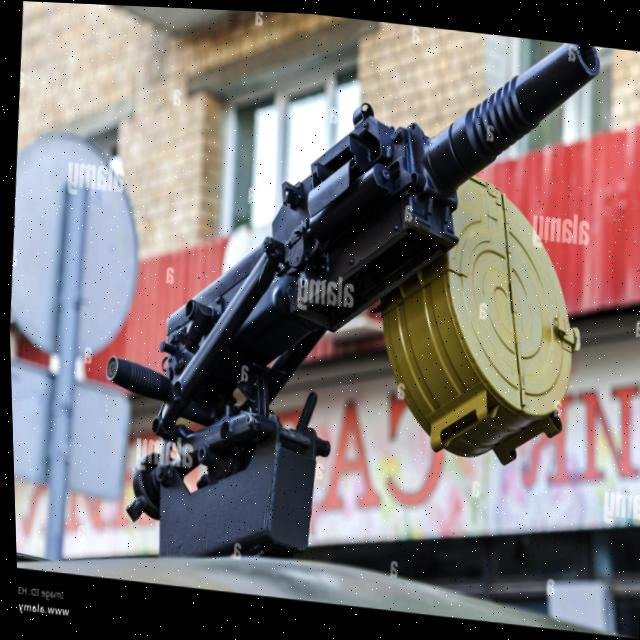firearm: (84, 3, 614, 568)
